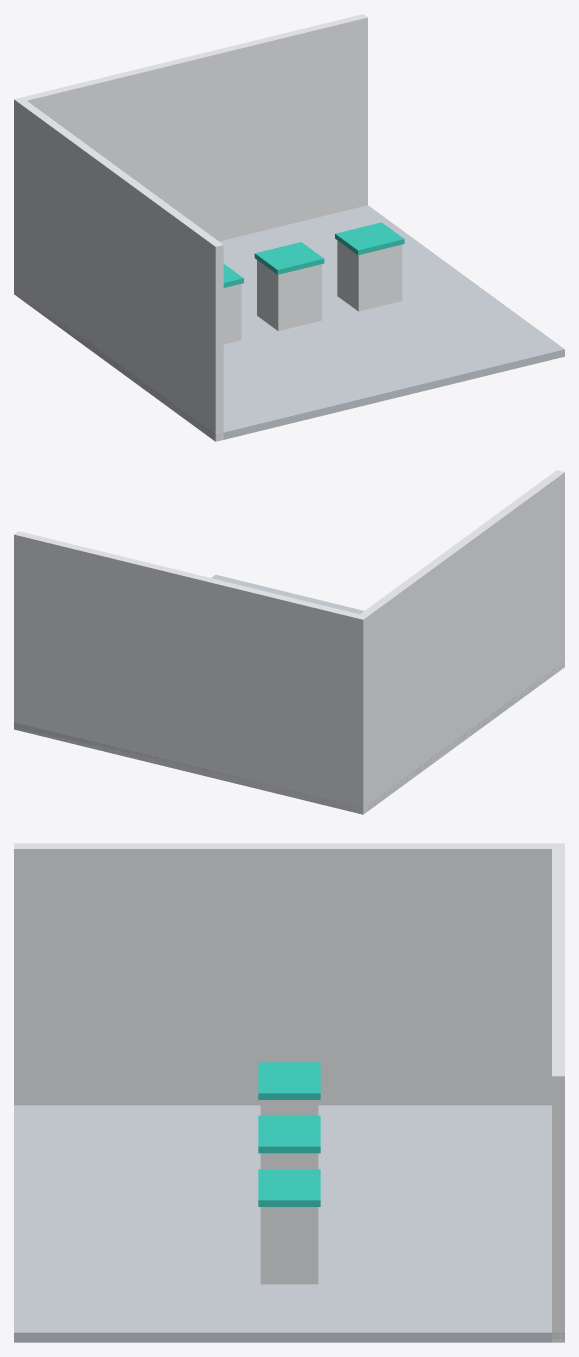
The picture shows the model from 3 angles, top to bottom: view 1: azimuth 30°, elevation 25°; view 2: azimuth 150°, elevation 25°; view 3: azimuth 270°, elevation 25°; orthographic projection. The views are drawn at different scales.
Parts seen in each view (by area): view 1: Exhibition Booth Concept; view 2: Exhibition Booth Concept; view 3: Exhibition Booth Concept.
Part boxes in pixels (left/top/right/bottom): Exhibition Booth Concept: left=14, top=14, right=564, bottom=441; Exhibition Booth Concept: left=14, top=470, right=564, bottom=814; Exhibition Booth Concept: left=14, top=843, right=564, bottom=1342.
Size of the model in its own units: 6 by 3.2 by 6.
